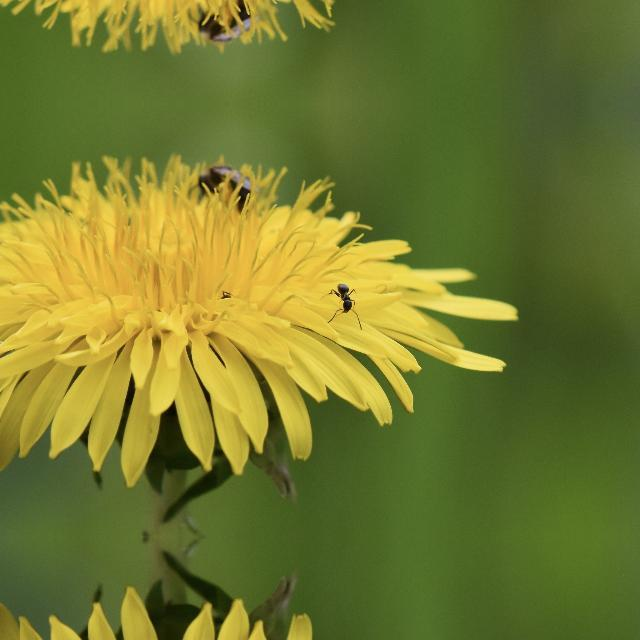Tapinoma: (324, 278, 366, 318)
